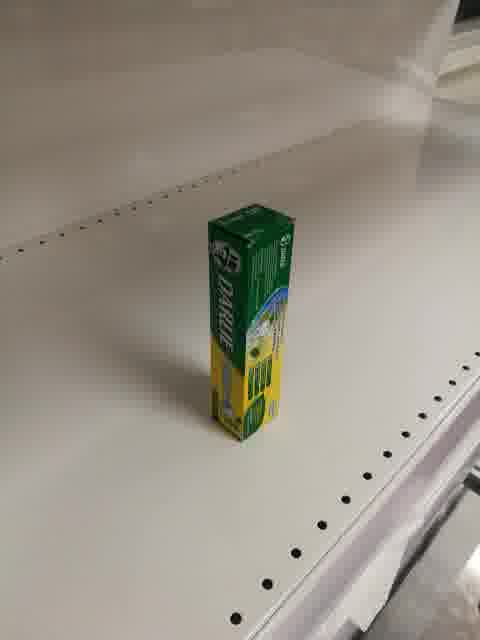toothpaste: (207, 203, 295, 442)
